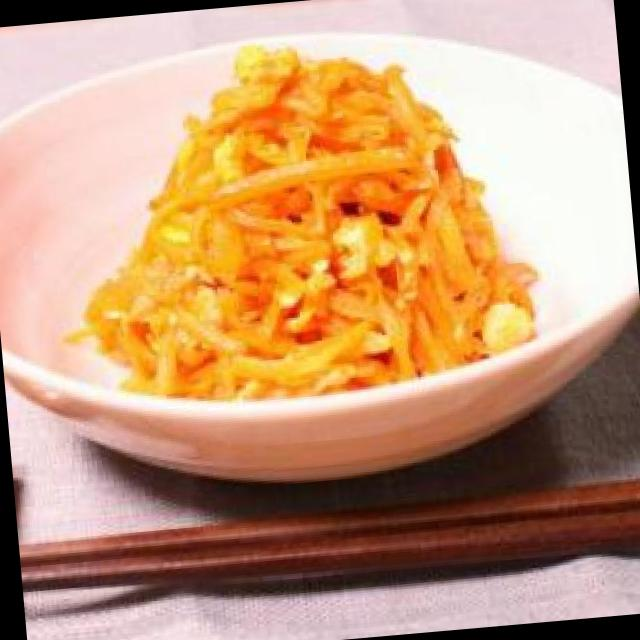carrot_eggs: (72, 32, 538, 410)
